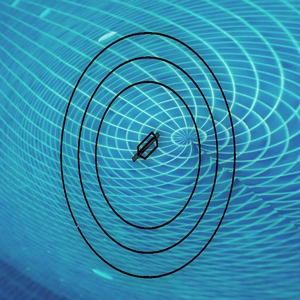circle: (39, 22, 263, 287)
submarine: (134, 133, 161, 159)
